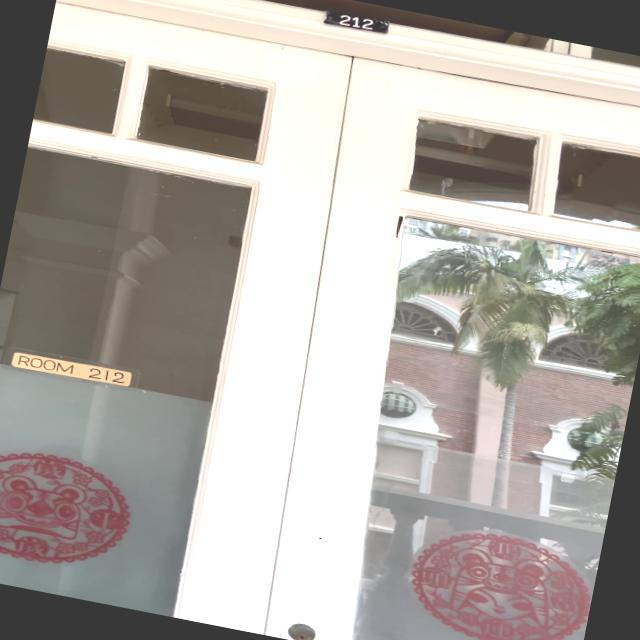room212: (317, 8, 395, 40)
room212Window: (0, 338, 157, 402)
